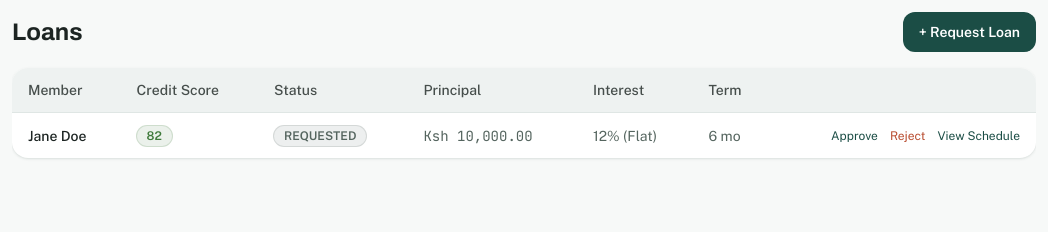
Test: LoansPage › lets a manager approve a requested loan
This screenshot has width=1048, height=232.
Expected: the text "Jane Doe" is shown, [28,128,86,144]
Click the button "Approve" at (854, 136), box [831,128,878,144]
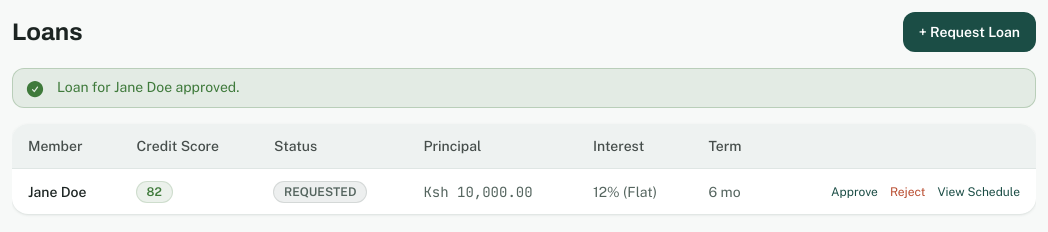
Result: the text "Loan for Jane Doe approved." is shown at [57,79,239,95]
